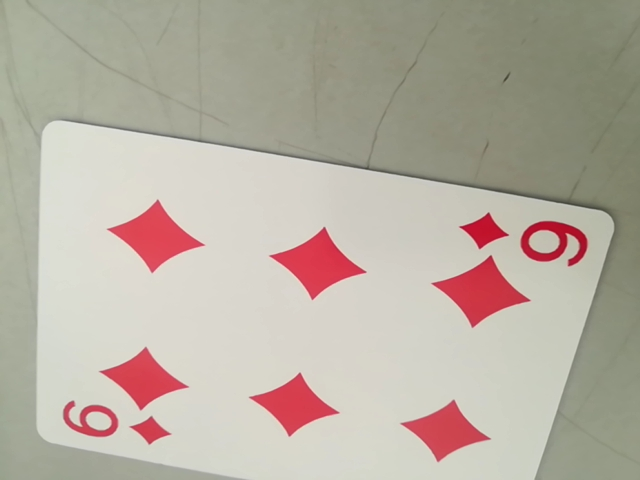fk 6: (456, 210, 593, 266), (52, 399, 175, 452)
